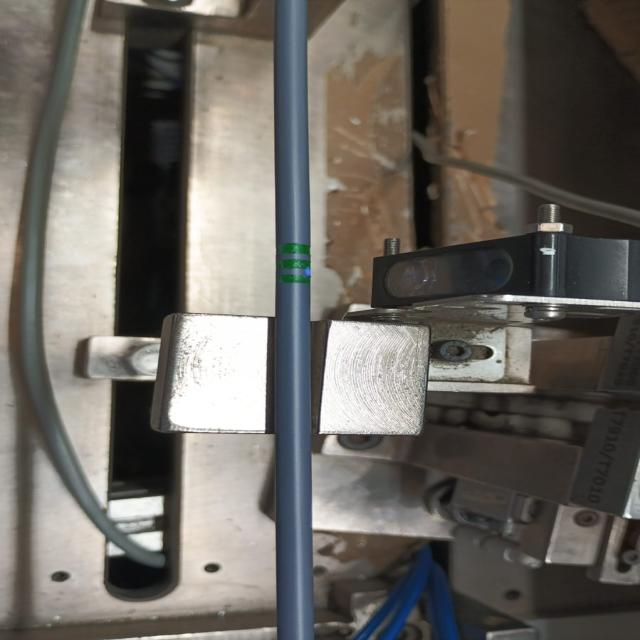green: (279, 242, 312, 288)
